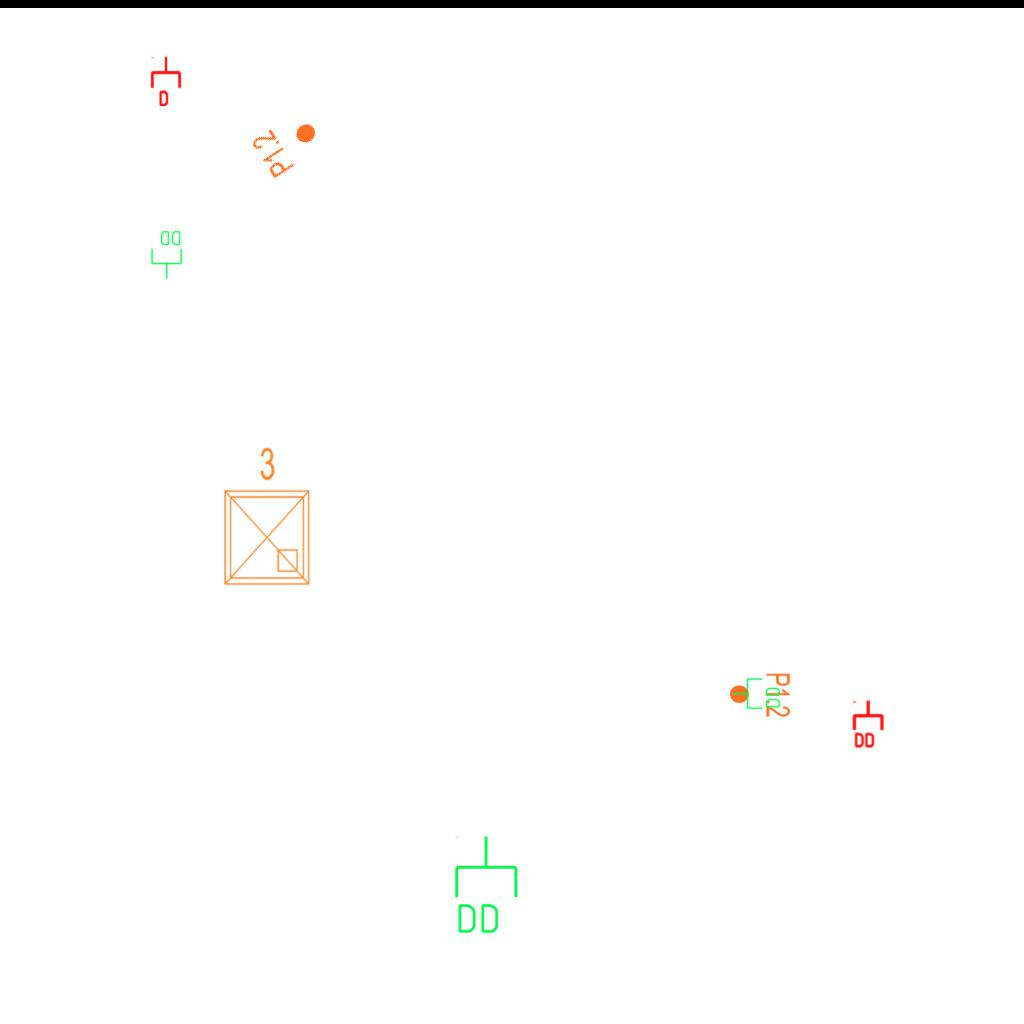Datenanschluss_einfach: (149, 56, 183, 106)
Datenanschluss_zweifach: (451, 834, 520, 937), (852, 699, 886, 750), (150, 229, 184, 280), (731, 677, 782, 711)
Downlight_LED_Einbauleuchten_Flur: (248, 107, 328, 181), (728, 672, 792, 718)
Einbaudownlights_LED_Konferenzraeume: (213, 442, 317, 592)
